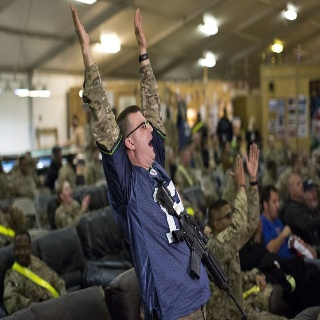rifle: (155, 184, 249, 319)
